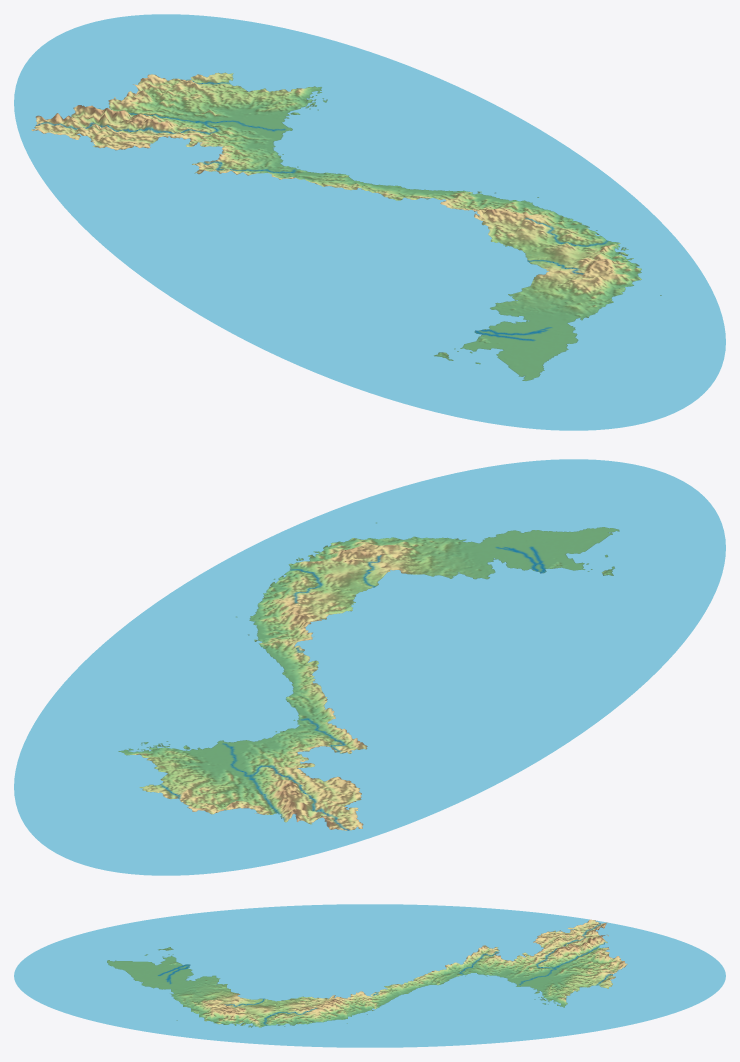
Rendered from VNM-terrain.glb.
3 renders of one model, top to bottom at view 1: azimuth 30°, elevation 25°; view 2: azimuth 150°, elevation 25°; view 3: azimuth 270°, elevation 25°, orthographic. The views are drawn at different scales.
Parts seen in each view (by area): view 1: Relevo com hidrografia; view 2: Relevo com hidrografia; view 3: Relevo com hidrografia.
Part boxes in pixels (left/top/right/bottom): Relevo com hidrografia: left=14, top=14, right=725, bottom=430; Relevo com hidrografia: left=14, top=459, right=725, bottom=875; Relevo com hidrografia: left=14, top=904, right=725, bottom=1047.
Size of the model in its own units: 1.04 by 0.0277 by 2.17.
2 materials, 1 textured.
